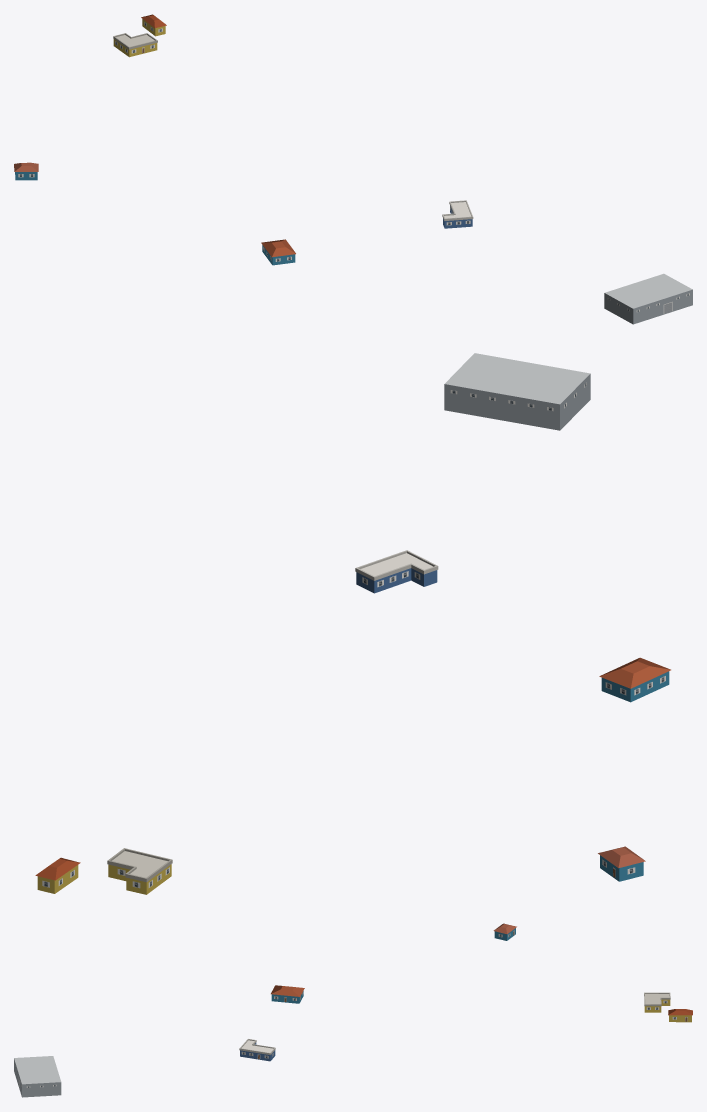
The model's file is msb_oranjestad_m13_2.glb.
3 views of the same model, one above another, from view 1: azimuth 30°, elevation 25°; view 2: azimuth 150°, elevation 25°; view 3: azimuth 270°, elevation 25° (orthographic). The views are drawn at different scales.
Parts seen in each view (by area): view 1: msb_oranjestad_m13_2_lod0; view 2: msb_oranjestad_m13_2_lod0; view 3: msb_oranjestad_m13_2_lod0.
Part boxes in pixels (x1,y1,x2,y2): msb_oranjestad_m13_2_lod0: (14, 14, 692, 324); msb_oranjestad_m13_2_lod0: (35, 353, 670, 894); msb_oranjestad_m13_2_lod0: (14, 923, 692, 1097).
Size of what is drawn, in the model's own units: 164 by 16.11 by 295.
3 materials, 1 textured.
